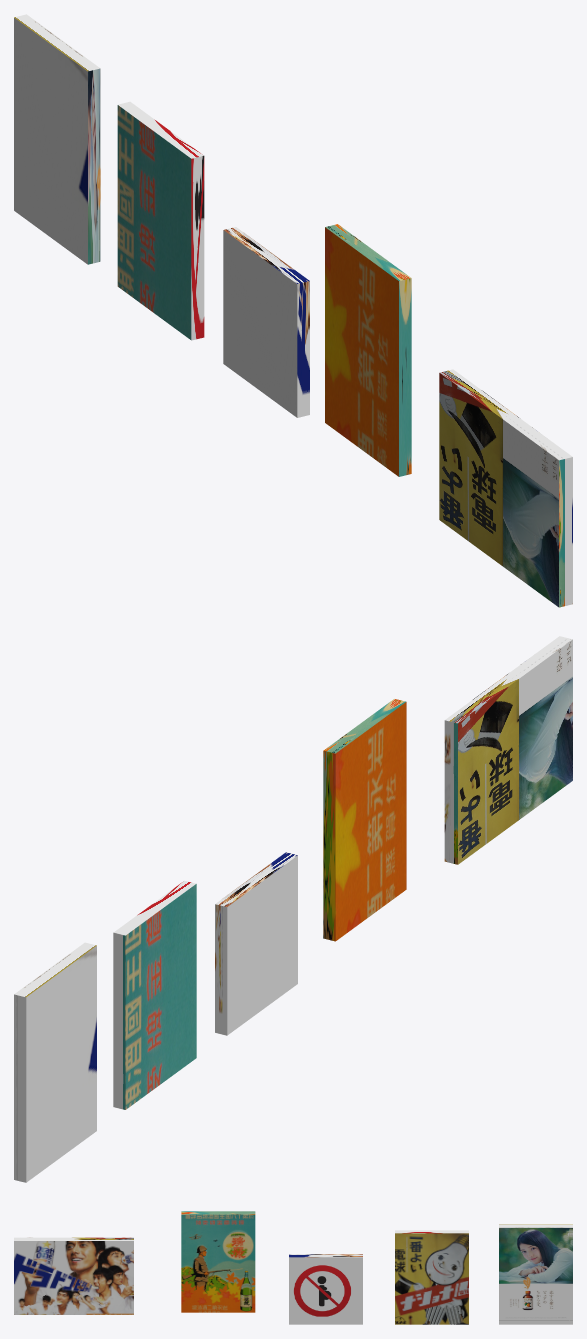
Rendered from fixedterd.fbx.
The picture shows the model from 3 angles, top to bottom: view 1: azimuth 30°, elevation 25°; view 2: azimuth 150°, elevation 25°; view 3: azimuth 270°, elevation 25°; orthographic projection. The views are drawn at different scales.
Visible parts, largest first — view 1: Cube.001, Cube.002, Cube.004, Cube, Cube.003; view 2: Cube.001, Cube.002, Cube.004, Cube, Cube.003; view 3: Cube.001, Cube.002, Cube, Cube.004, Cube.003.
Boxes of the visible parts, box(x1,y1,x2,y2) form: Cube.001: box(14, 14, 572, 607); Cube.002: box(325, 224, 411, 476); Cube.004: box(117, 101, 204, 340); Cube: box(14, 17, 100, 264); Cube.003: box(223, 227, 309, 417); Cube.001: box(14, 636, 572, 997); Cube.002: box(323, 699, 406, 941); Cube.004: box(113, 880, 196, 1109); Cube: box(14, 946, 96, 1182); Cube.003: box(215, 852, 297, 1035); Cube.001: box(14, 1224, 572, 1314); Cube.002: box(181, 1211, 255, 1312); Cube: box(499, 1227, 572, 1324); Cube.004: box(395, 1230, 468, 1324); Cube.003: box(289, 1254, 362, 1324).
Size of the model in its own units: 199 by 1650 by 7692.
